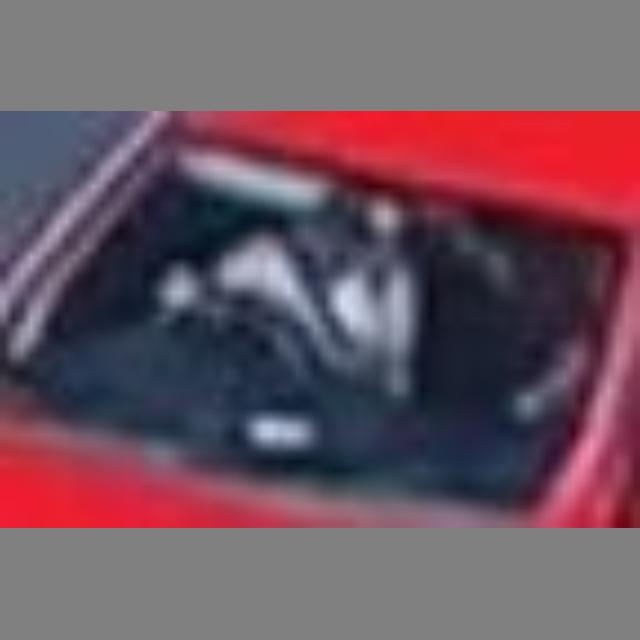pakai: (196, 218, 427, 395)
